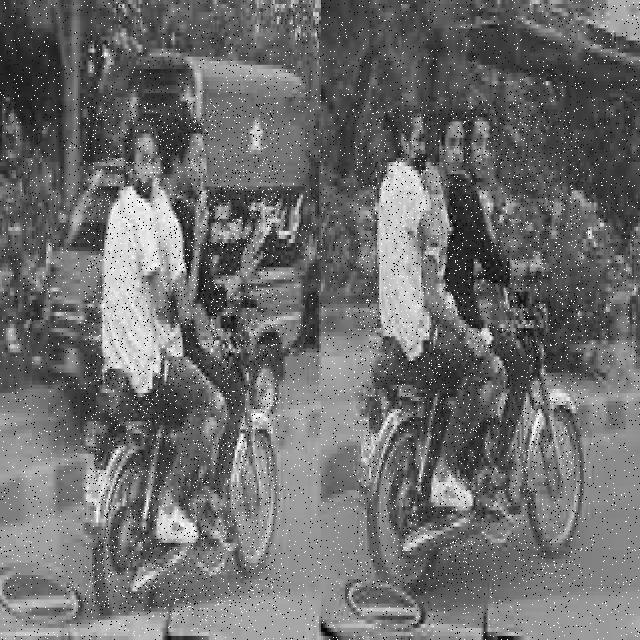Motorbike: (357, 101, 583, 590), (84, 102, 280, 618)
